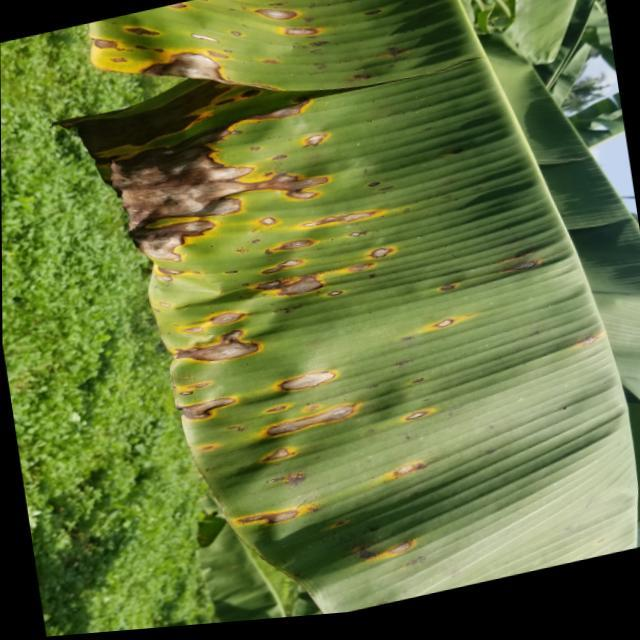Early_rust: (46, 0, 496, 581)
